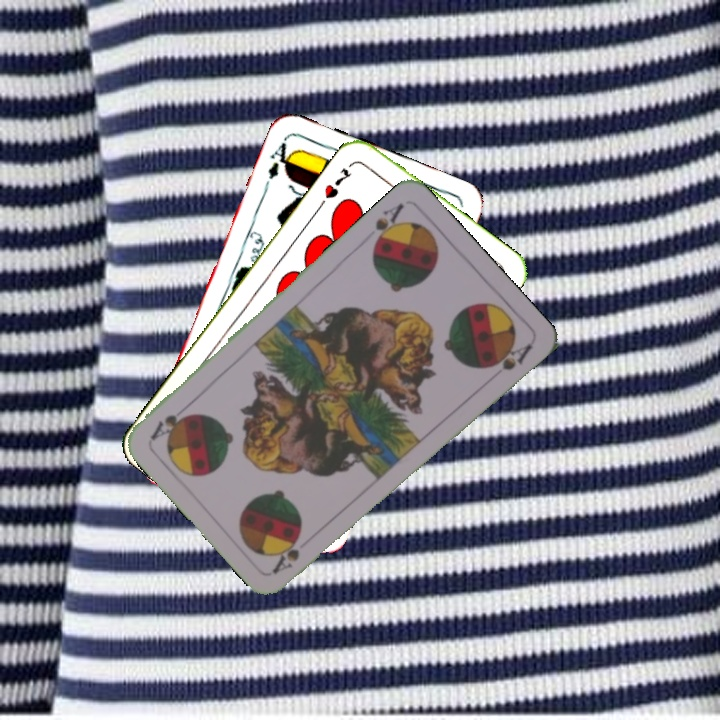EA: (263, 133, 297, 182)
H7: (320, 164, 355, 202)
SA: (369, 199, 407, 251), (268, 534, 303, 576)
